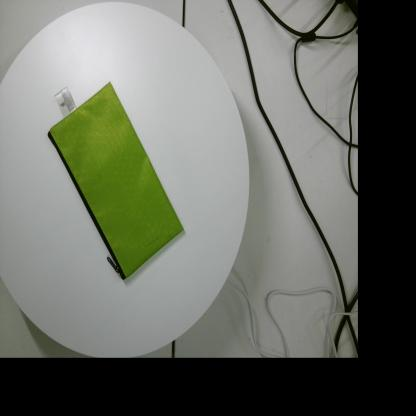Stationery: (47, 81, 184, 280)
